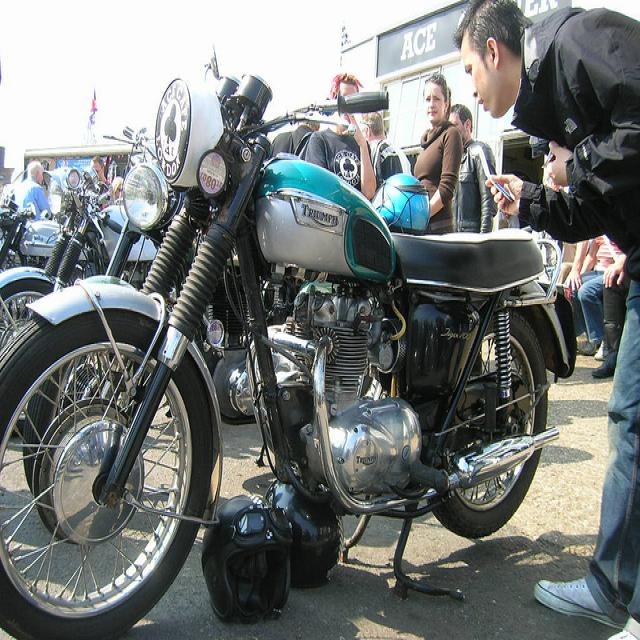motor: (1, 45, 573, 630), (0, 168, 128, 355), (0, 191, 60, 273)
